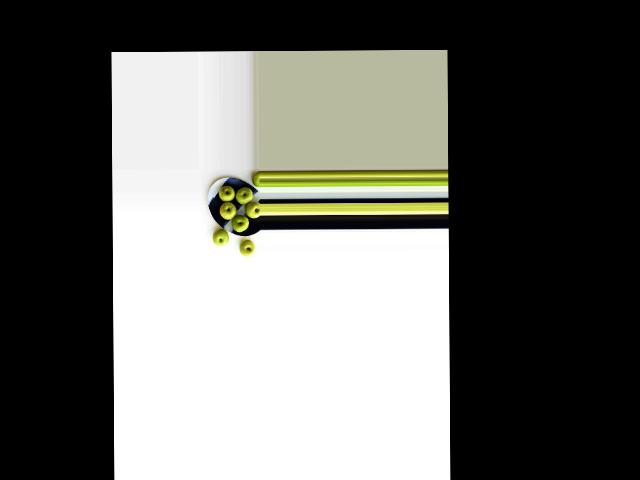apple: (217, 185, 235, 202)
